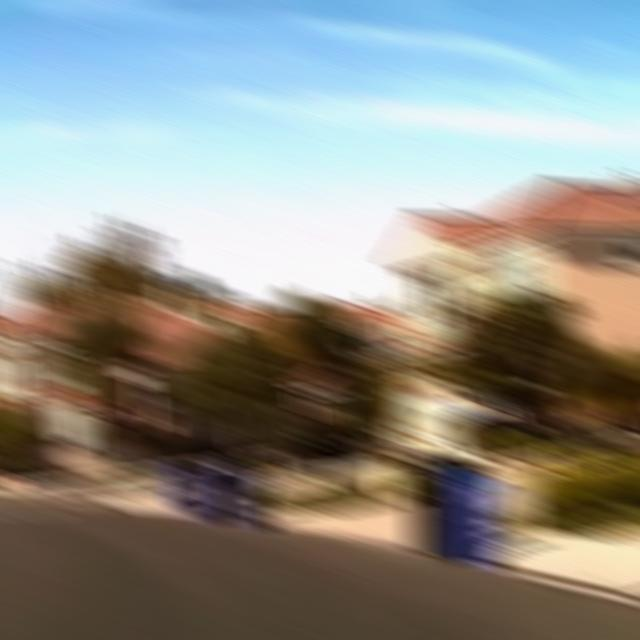stop_sign: (95, 396, 130, 428)
